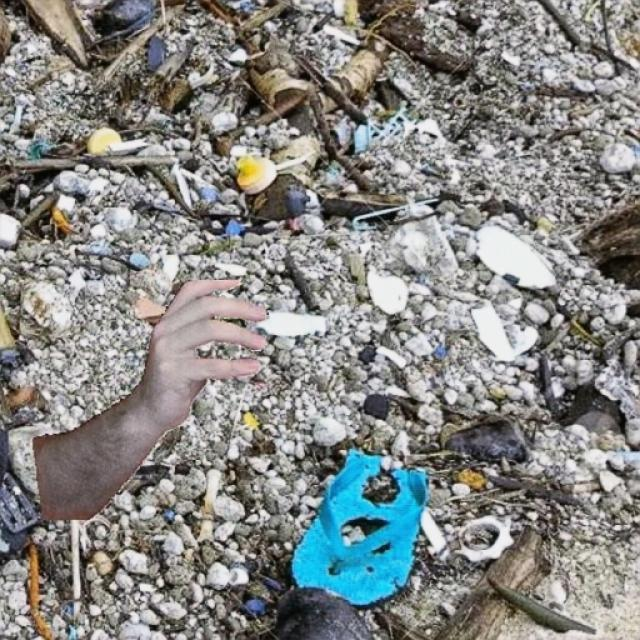Person in Rubble: (32, 280, 268, 519)
